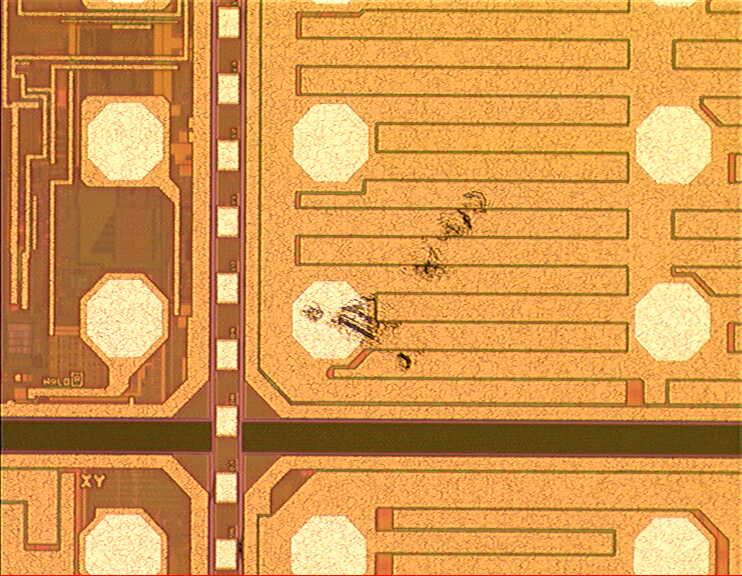SCRATCH: (290, 180, 501, 386)
